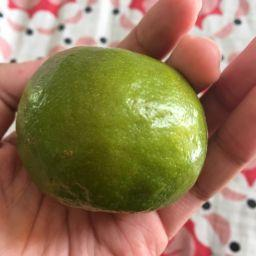Unripe: (15, 44, 209, 213)
